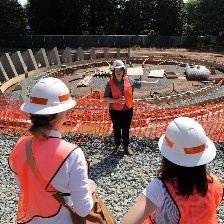helmet: (155, 113, 221, 167), (19, 73, 77, 113), (109, 57, 126, 72)
person: (14, 74, 100, 224), (144, 115, 221, 220), (101, 57, 139, 156)
vest: (12, 136, 83, 214), (152, 170, 223, 222), (103, 78, 135, 115)
